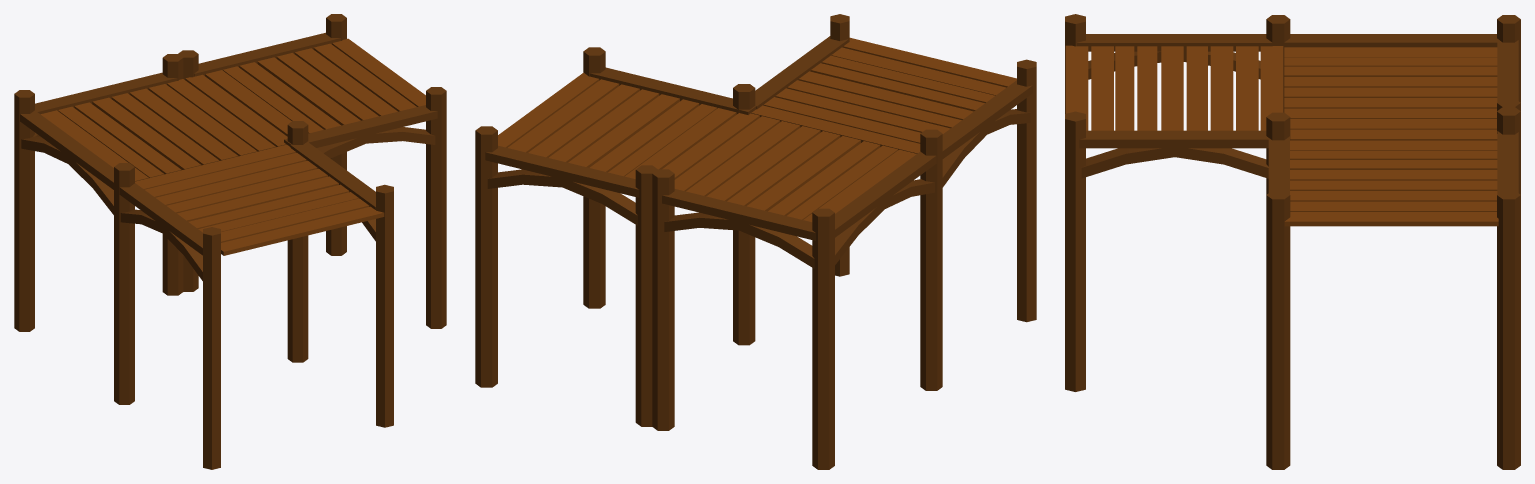
The model's file is Mesh_Dock_CornerLeft.fbx.
3 views of the same model, side by side, from view 1: azimuth 30°, elevation 25°; view 2: azimuth 150°, elevation 25°; view 3: azimuth 270°, elevation 25° (orthographic). The views are drawn at different scales.
Parts seen in each view (by area): view 1: Dock_CornerLeft; view 2: Dock_CornerLeft; view 3: Dock_CornerLeft.
Boxes of the visible parts, bbox=[...] form: Dock_CornerLeft: bbox=[14, 14, 446, 469]; Dock_CornerLeft: bbox=[475, 14, 1036, 469]; Dock_CornerLeft: bbox=[1065, 14, 1520, 469].
Bounding box in the file's own units: 737 × 502 × 766.
Materials: 1 (1 with a texture image).
